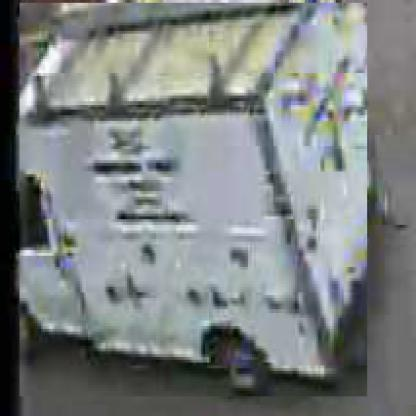truck: (19, 4, 368, 400)
